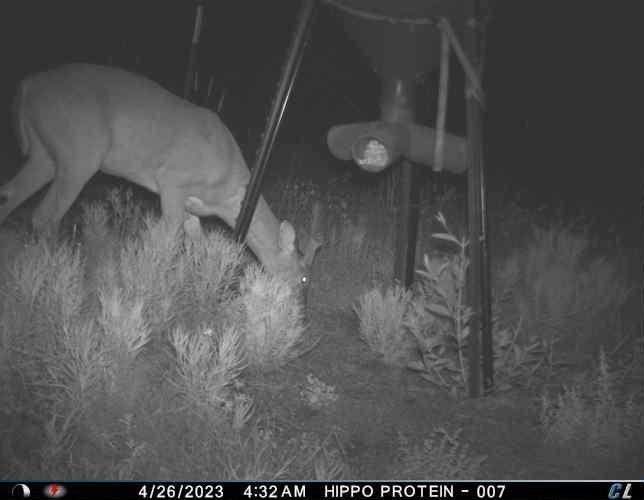Deer: (0, 54, 328, 327)
